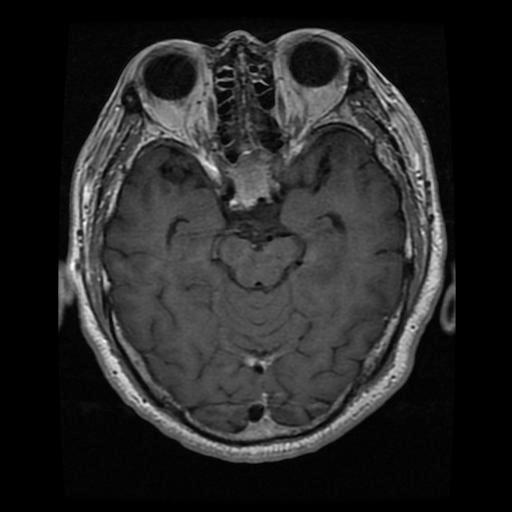Tumour-Pituitary: (212, 148, 295, 215)
